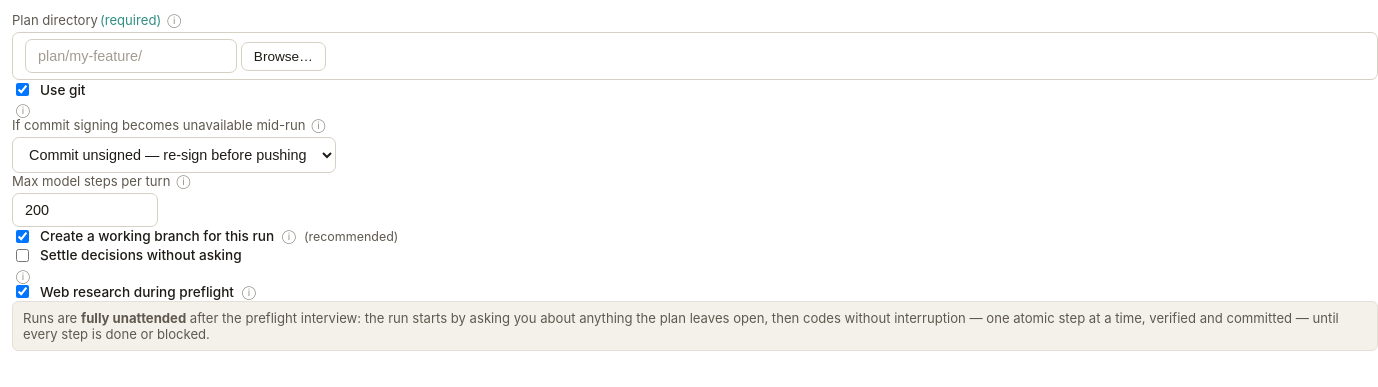
autonomous-coding Editor › rejects a plan dir picked outside the working dir
This screenshot has width=1378, height=387.
Click the button "Browse…" at (283, 56), box [241,42,326,71]
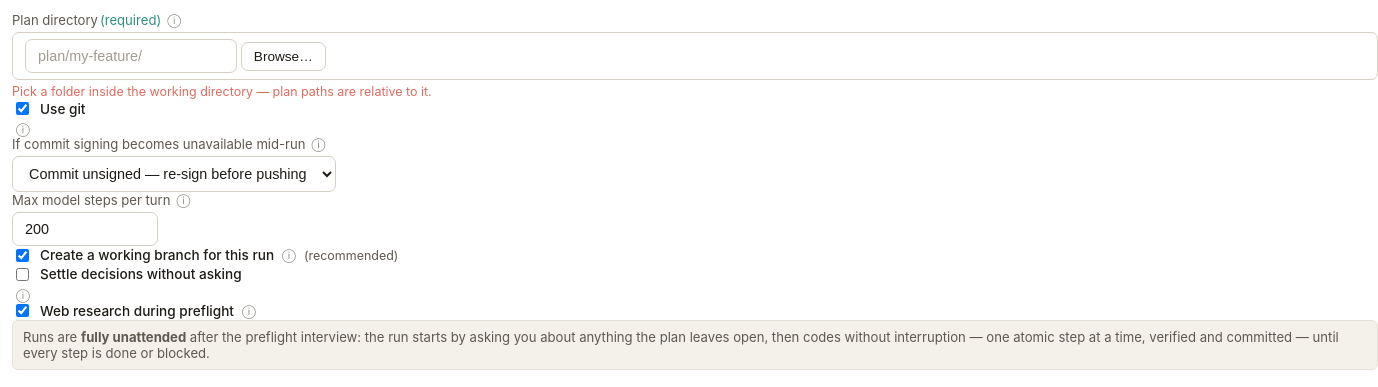
Expected: the text "inside the working directory" is shown, [12,84,432,99]
